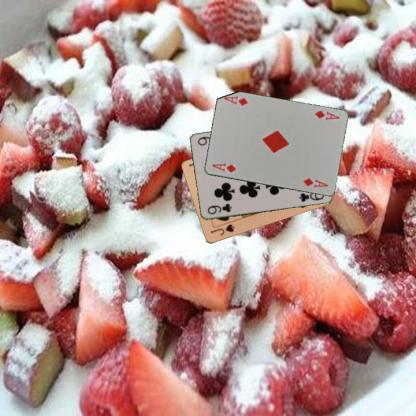9c: (204, 201, 233, 216)
Ad: (312, 108, 340, 122), (209, 161, 238, 174)
Js: (208, 222, 236, 236)
